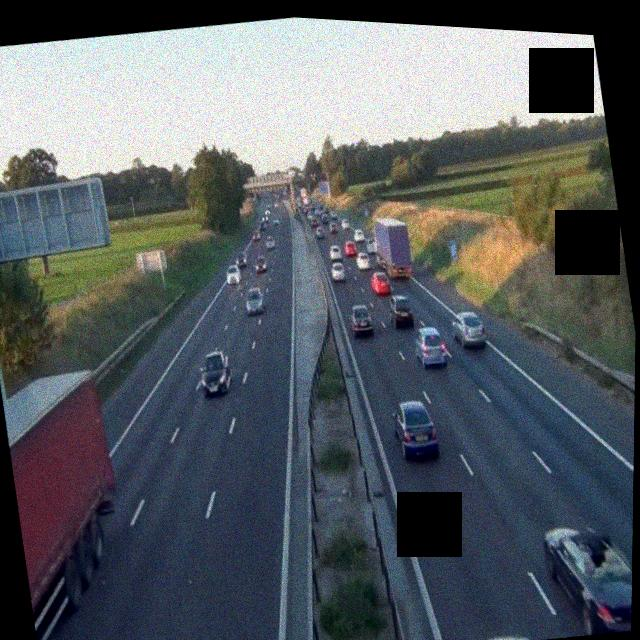car: (541, 512, 633, 640), (391, 396, 441, 462), (197, 346, 235, 400), (413, 324, 450, 370), (450, 308, 487, 352), (387, 288, 416, 331), (347, 301, 374, 338), (473, 630, 542, 640), (369, 270, 392, 298), (244, 286, 266, 315), (225, 262, 242, 287), (331, 258, 348, 283), (355, 250, 373, 273), (326, 246, 344, 267), (253, 254, 268, 275), (368, 236, 383, 257), (236, 250, 250, 269), (315, 226, 326, 241), (250, 234, 261, 249), (310, 214, 320, 228)
truck: (0, 366, 145, 640), (374, 216, 415, 282)
